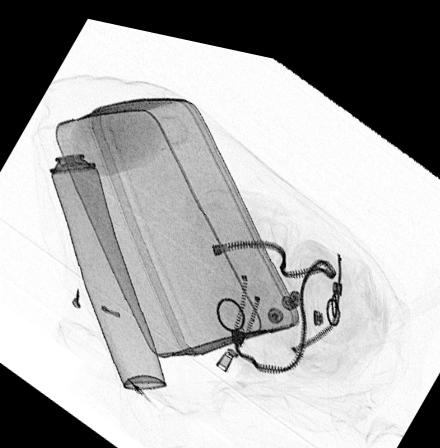Sprayer: (37, 117, 165, 388)
